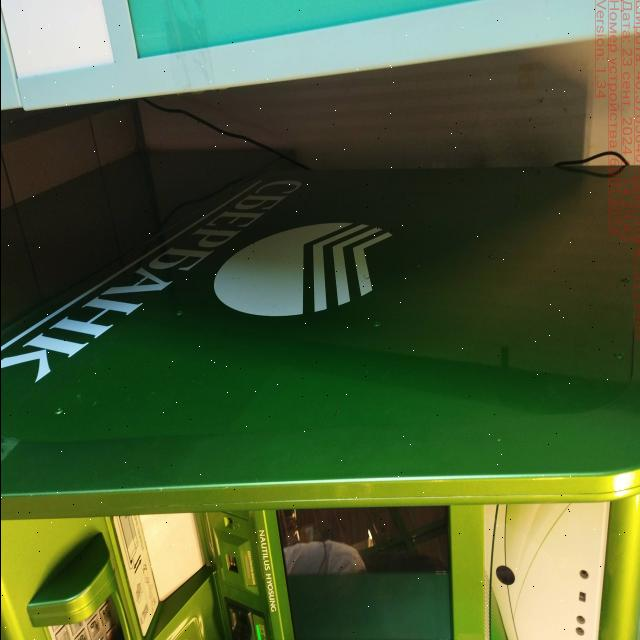bank: (0, 153, 640, 640)
